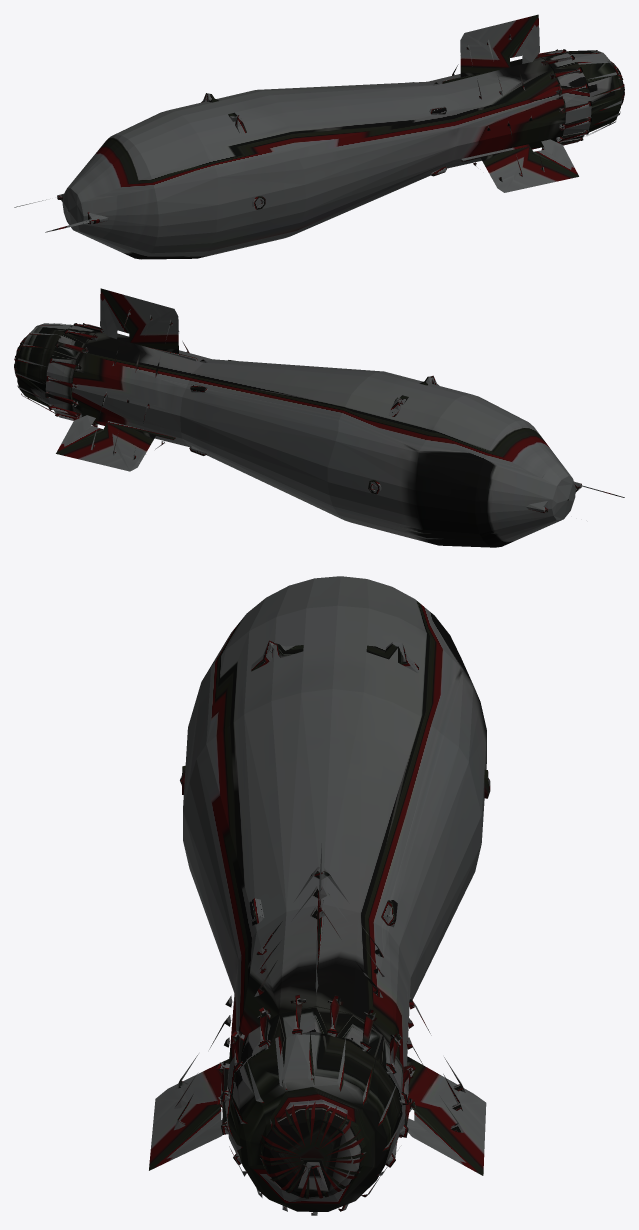
3 renders of one model, top to bottom at view 1: azimuth 30°, elevation 25°; view 2: azimuth 150°, elevation 25°; view 3: azimuth 270°, elevation 25°, orthographic. The views are drawn at different scales.
Visible parts, largest first — view 1: tsar_an602_0_an602_0; view 2: tsar_an602_0_an602_0; view 3: tsar_an602_0_an602_0.
Part boxes in pixels (x1,y1,x2,y2): tsar_an602_0_an602_0: (14,14,624,259); tsar_an602_0_an602_0: (14,288,624,547); tsar_an602_0_an602_0: (149,576,490,1215).
Bounding box in the file's own units: 9.63 × 2.5 × 2.46.
Materials: 1 (1 with a texture image).
